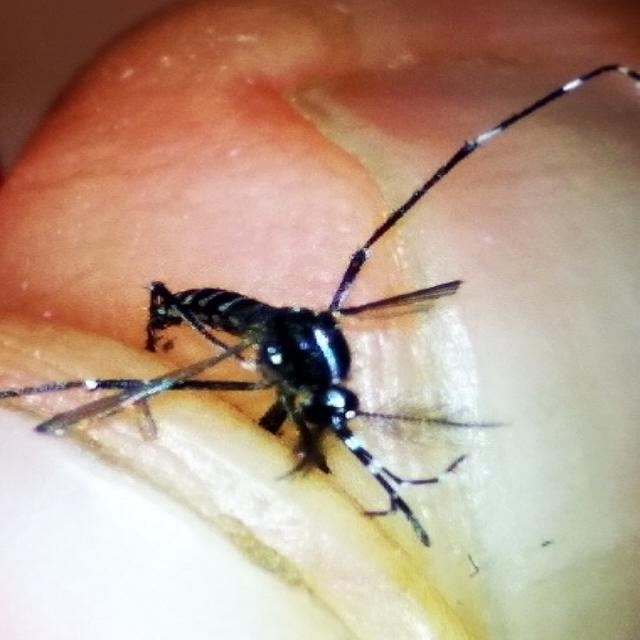albopictus: (29, 178, 496, 556)
